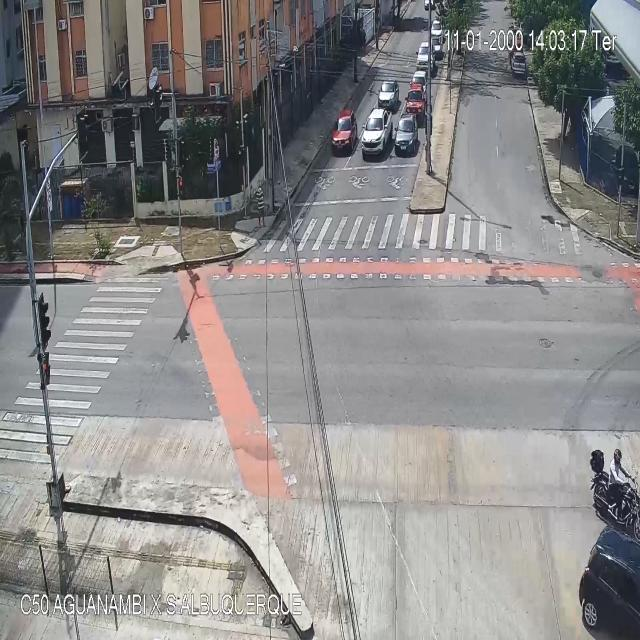Car: (578, 524, 640, 634), (361, 110, 390, 156), (332, 108, 356, 152), (395, 114, 416, 154), (405, 84, 427, 117), (416, 42, 433, 71), (378, 80, 396, 106), (411, 71, 427, 92), (512, 53, 526, 76), (430, 19, 444, 40), (432, 38, 444, 56)
Motorcycle: (590, 453, 640, 537)
